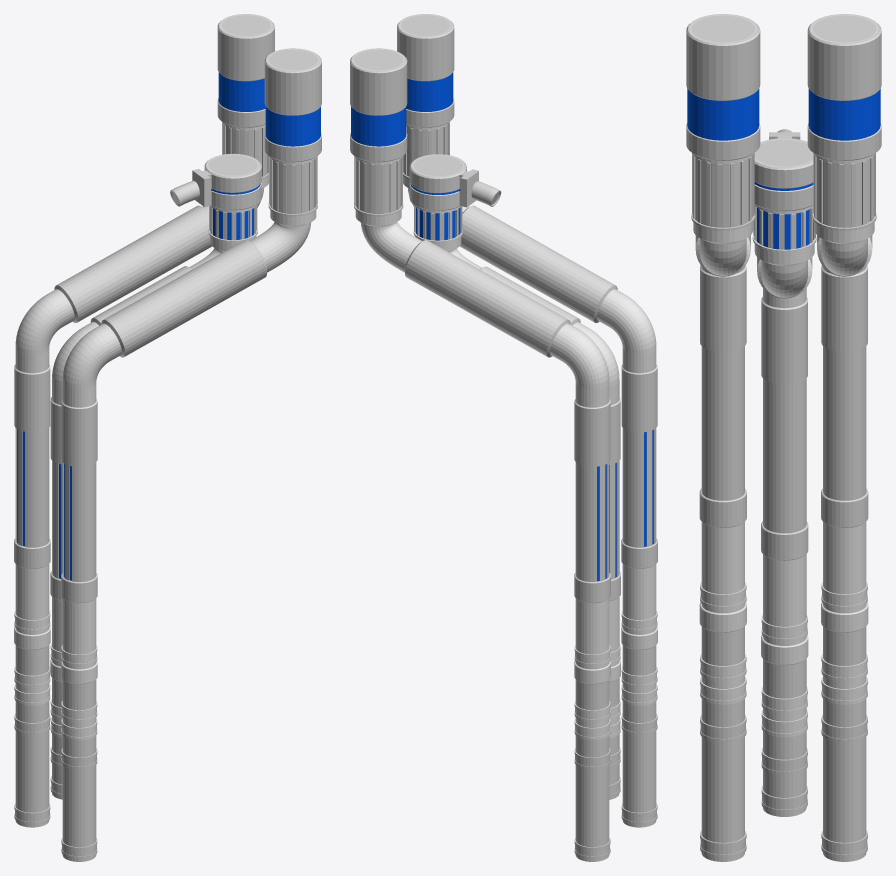
The model's file is m6OzonePipes.fbx.
3 renders of one model, left to right at view 1: azimuth 30°, elevation 25°; view 2: azimuth 150°, elevation 25°; view 3: azimuth 270°, elevation 25°, orthographic. The views are drawn at different scales.
Parts seen in each view (by area): view 1: Cylinder.029; view 2: Cylinder.029; view 3: Cylinder.029.
Boxes of the visible parts, x1,y1,x2,y2 form: Cylinder.029: (14, 14, 321, 861); Cylinder.029: (350, 14, 657, 861); Cylinder.029: (686, 14, 881, 861).
Size of the model in its own units: 257 by 717 by 133.
